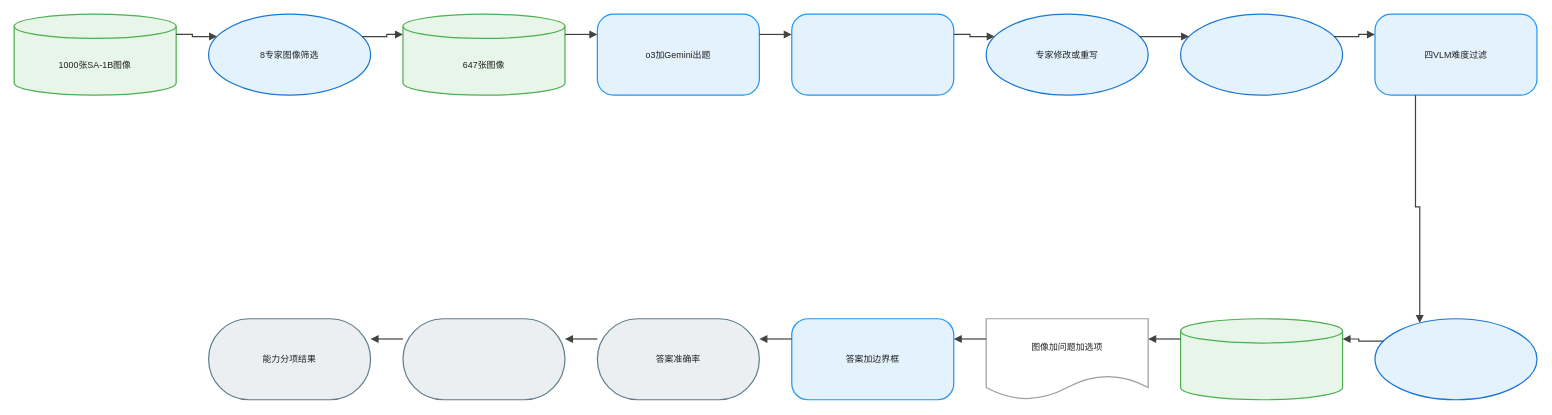
The diagram is 1552 pixels wide and 415 high, and some of its shapes have lost their labels. The shapes that lost their labels are listed below. From the top down, each one's centre as x and y in pixels, then its label:
At point (872, 54): "感知与推理协议".
At point (1261, 54): "答案加证据框".
At point (483, 359): "Mean IoU".
At point (1261, 359): "405题10能力".
At point (1455, 359): "交叉验证".
